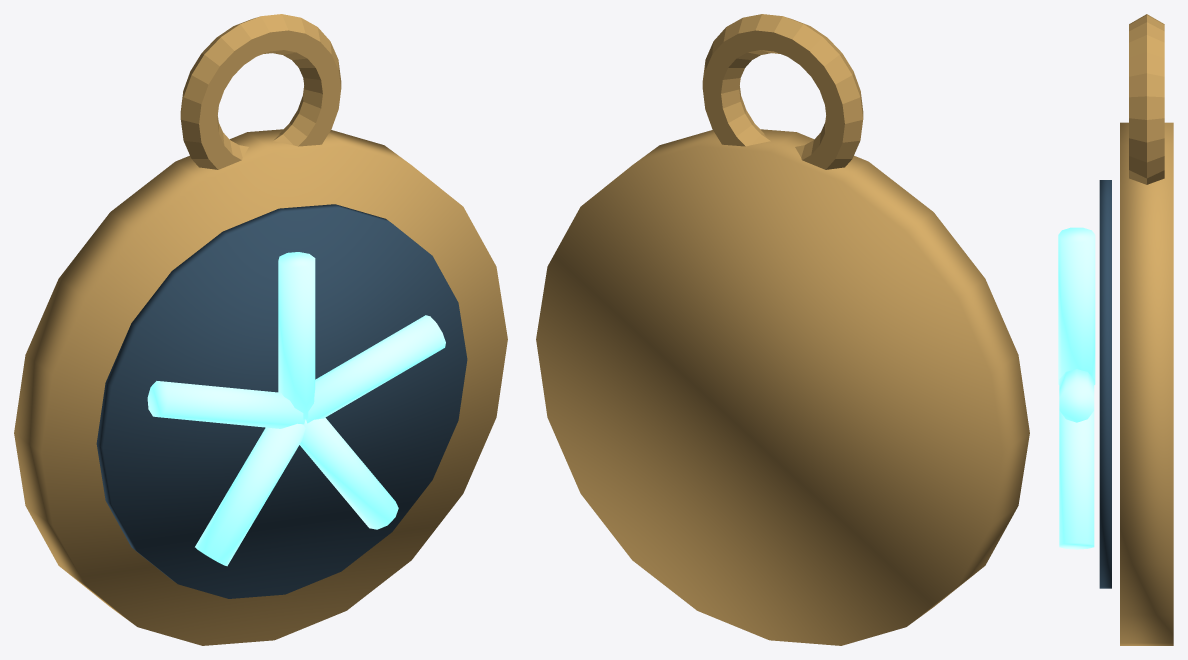
Rendered from relic-hanseSeal.glb.
3 renders of one model, left to right at view 1: azimuth 30°, elevation 25°; view 2: azimuth 150°, elevation 25°; view 3: azimuth 270°, elevation 25°, orthographic. The views are drawn at different scales.
Visible parts, largest first — view 1: relic-hanseSeal / Brass | machined champagne, relic-hanseSeal / Paint | Prussian blue, relic-hanseSeal / Glass | luminous mint; view 2: relic-hanseSeal / Brass | machined champagne; view 3: relic-hanseSeal / Brass | machined champagne, relic-hanseSeal / Glass | luminous mint, relic-hanseSeal / Paint | Prussian blue.
Boxes of the visible parts, left/top/right/bottom form: relic-hanseSeal / Brass | machined champagne: left=14, top=14, right=507, bottom=645; relic-hanseSeal / Paint | Prussian blue: left=96, top=204, right=467, bottom=598; relic-hanseSeal / Glass | luminous mint: left=147, top=252, right=445, bottom=566; relic-hanseSeal / Brass | machined champagne: left=536, top=14, right=1029, bottom=645; relic-hanseSeal / Brass | machined champagne: left=1120, top=14, right=1173, bottom=645; relic-hanseSeal / Glass | luminous mint: left=1058, top=227, right=1095, bottom=549; relic-hanseSeal / Paint | Prussian blue: left=1099, top=180, right=1111, bottom=588.
Bounding box in the file's own units: 1.28 × 1.61 × 0.28.
